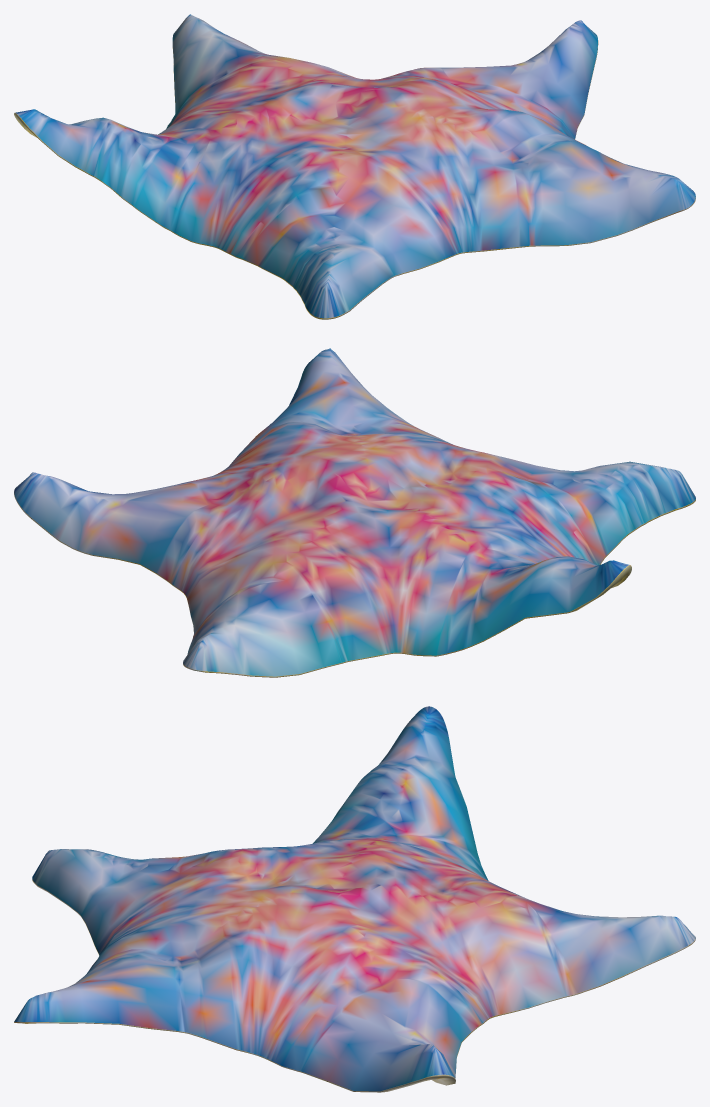
The model's file is fish-sao-bien.glb.
3 renders of one model, top to bottom at view 1: azimuth 30°, elevation 25°; view 2: azimuth 150°, elevation 25°; view 3: azimuth 270°, elevation 25°, orthographic. The views are drawn at different scales.
Visible parts, largest first — view 1: body; view 2: body; view 3: body.
Part boxes in pixels (box(x1,y1,x2,y2)): body: box(14, 14, 695, 319); body: box(14, 348, 695, 677); body: box(14, 706, 695, 1092).
Size of the model in its own units: 1 by 0.1754 by 0.9581.
